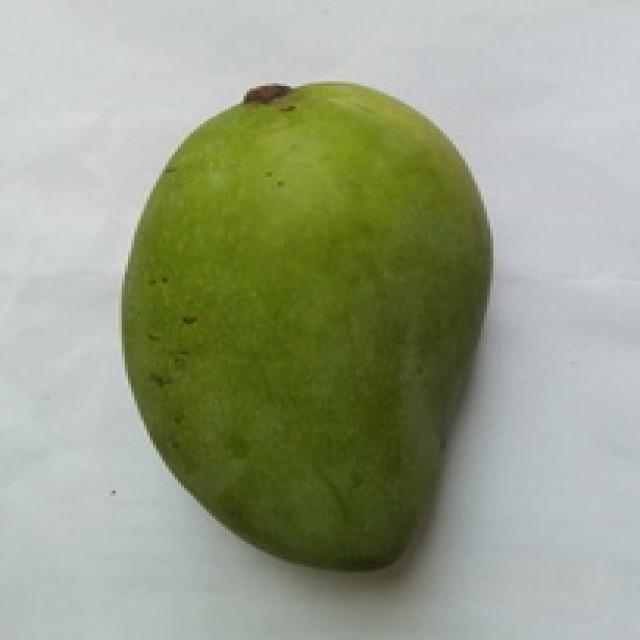Mango: (125, 86, 490, 567)
